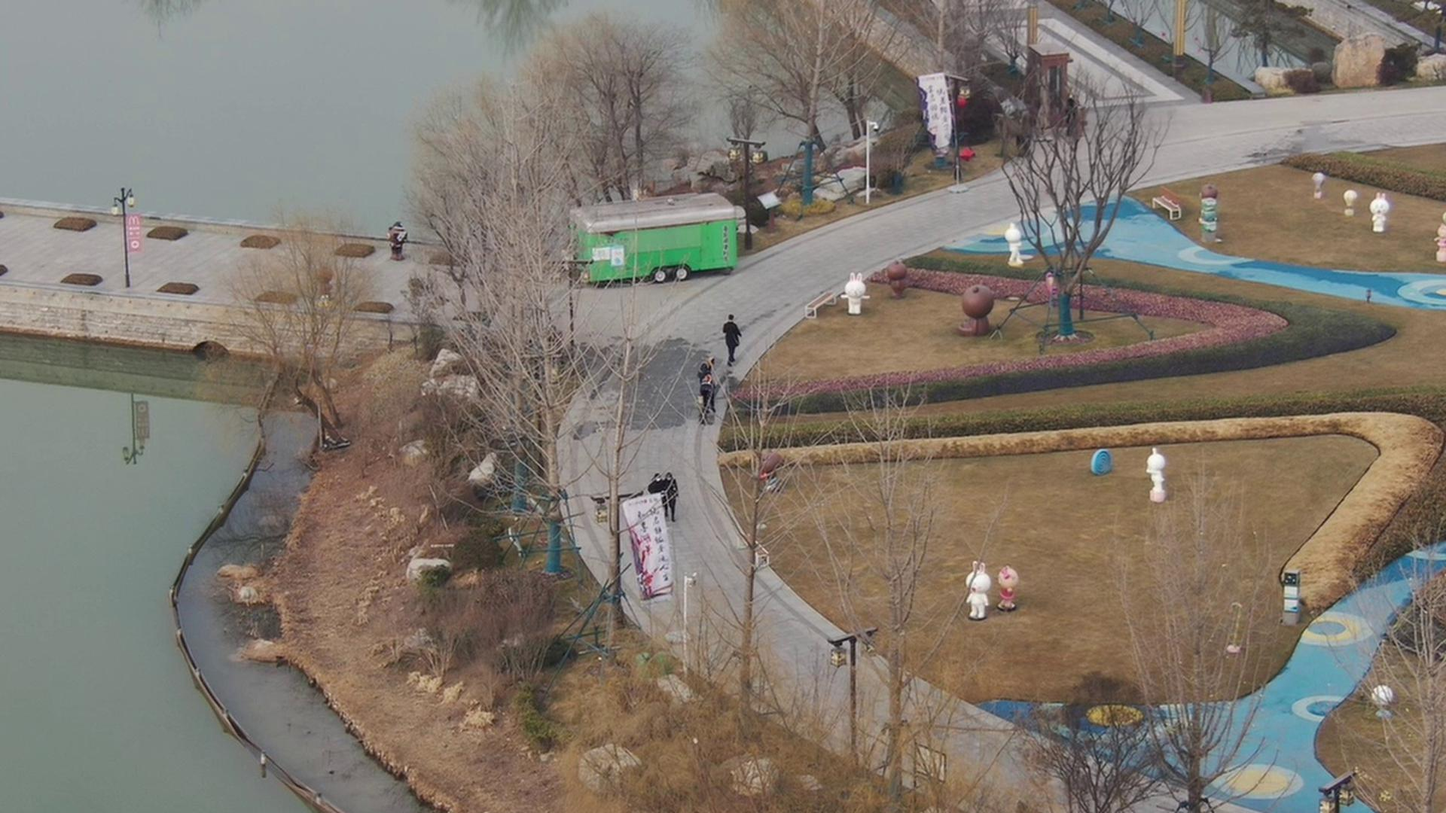class_2: (641, 467, 678, 526), (694, 355, 718, 423)
human: (722, 309, 743, 368)
